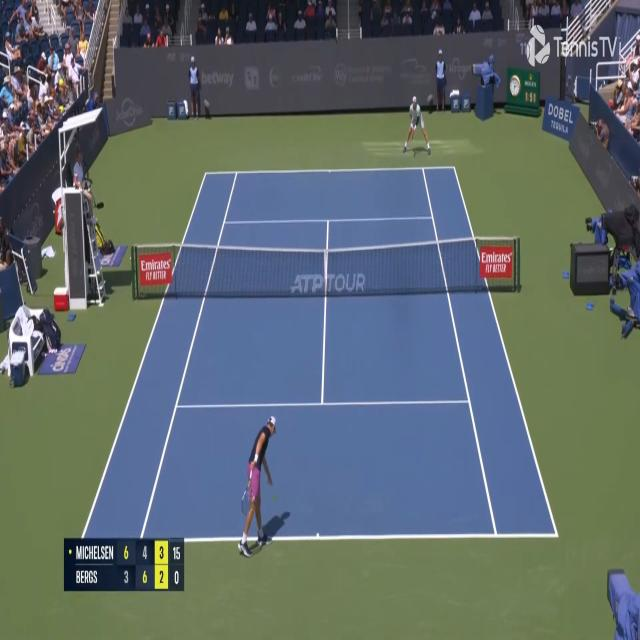tennis-player: (235, 410, 294, 561), (402, 92, 432, 159)
